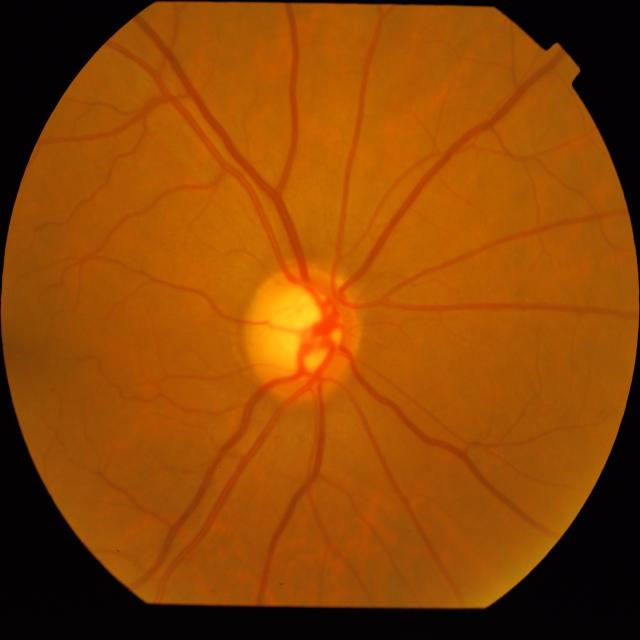OC: (265, 286, 343, 368)
OD: (242, 264, 361, 402)
